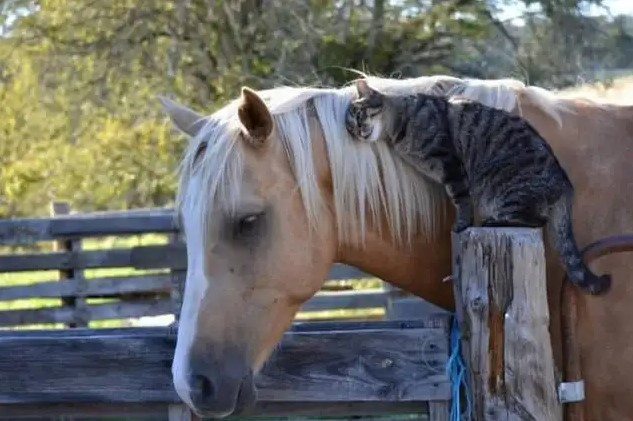cat: (344, 77, 612, 296)
horse: (158, 76, 633, 419)
